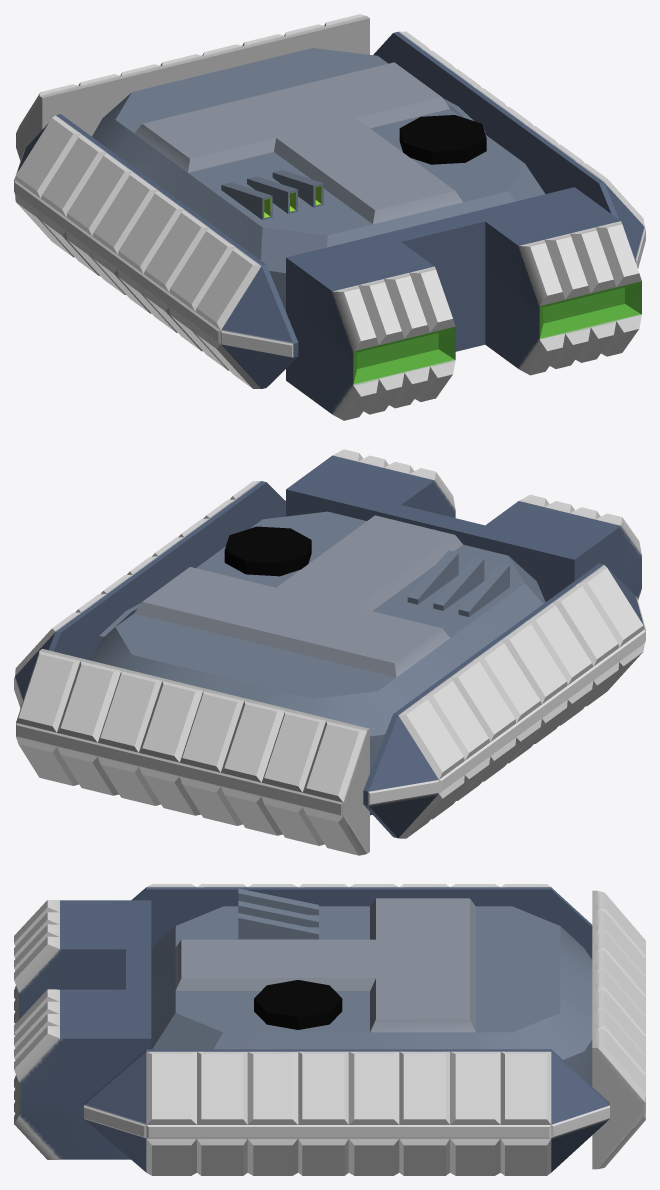
Rendered from WeaponBaseType1.fbx.
The picture shows the model from 3 angles, top to bottom: view 1: azimuth 30°, elevation 25°; view 2: azimuth 150°, elevation 25°; view 3: azimuth 270°, elevation 25°; orthographic projection.
Visible parts, largest first — view 1: WeaponBaseT1; view 2: WeaponBaseT1; view 3: WeaponBaseT1.
Boxes of the visible parts, box(x1,y1,x2,y2) form: WeaponBaseT1: box(14, 14, 645, 420); WeaponBaseT1: box(14, 449, 645, 855); WeaponBaseT1: box(14, 884, 645, 1175).
Bounding box in the file's own units: 41.87 × 13.86 × 54.57.
